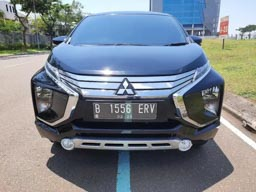plat: (92, 103, 156, 113)
